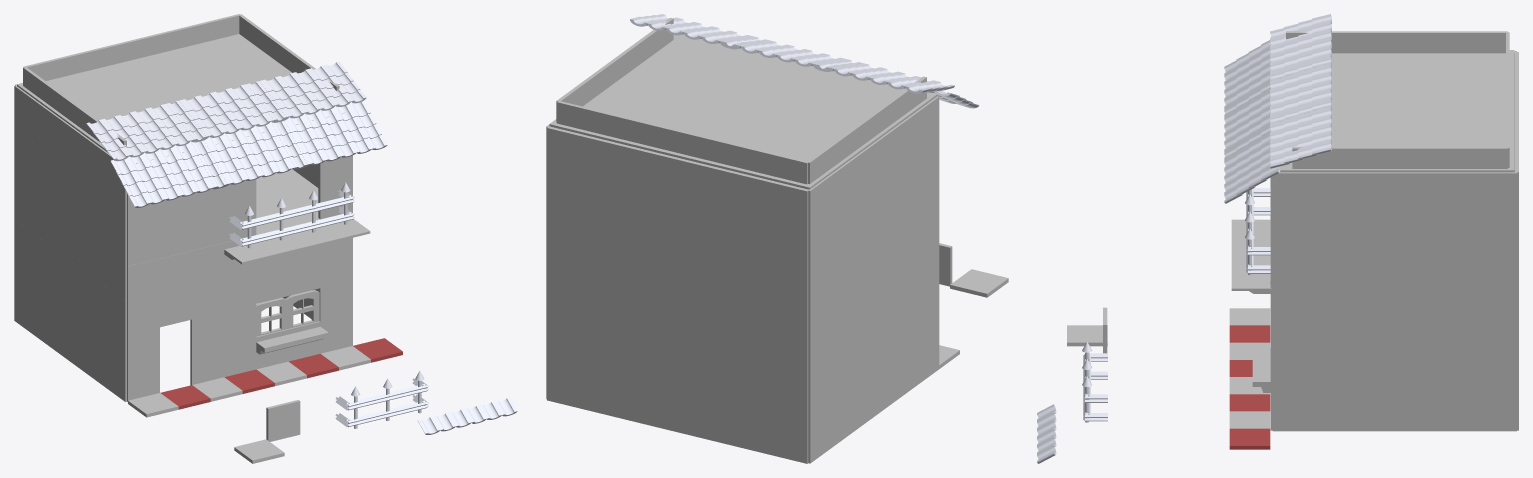
Rendered from bloc batiment.glb.
The picture shows the model from 3 angles, left to right: view 1: azimuth 30°, elevation 25°; view 2: azimuth 150°, elevation 25°; view 3: azimuth 270°, elevation 25°; orthographic projection. The views are drawn at different scales.
Parts seen in each view (by area): view 1: mur (×79), cube.proto (×21), balcon (×5), window2 (×2); view 2: mur (×108), cube.proto (×31); view 3: mur (×53), cube.proto (×28), balcon (×2).
Part boxes in pixels (box(x1,y1,x2,y2)): mur (×79): box(14, 14, 352, 441); cube.proto (×21): box(68, 51, 402, 463); balcon (×5): box(224, 219, 370, 354); window2 (×2): box(256, 290, 319, 336); mur (×108): box(547, 30, 952, 463); cube.proto (×31): box(583, 34, 1008, 297); mur (×53): box(1272, 31, 1516, 431); cube.proto (×28): box(1067, 50, 1514, 449); balcon (×2): box(1231, 219, 1272, 293).
Bounding box in the file's own units: 9.28 × 7.94 × 11.84.
